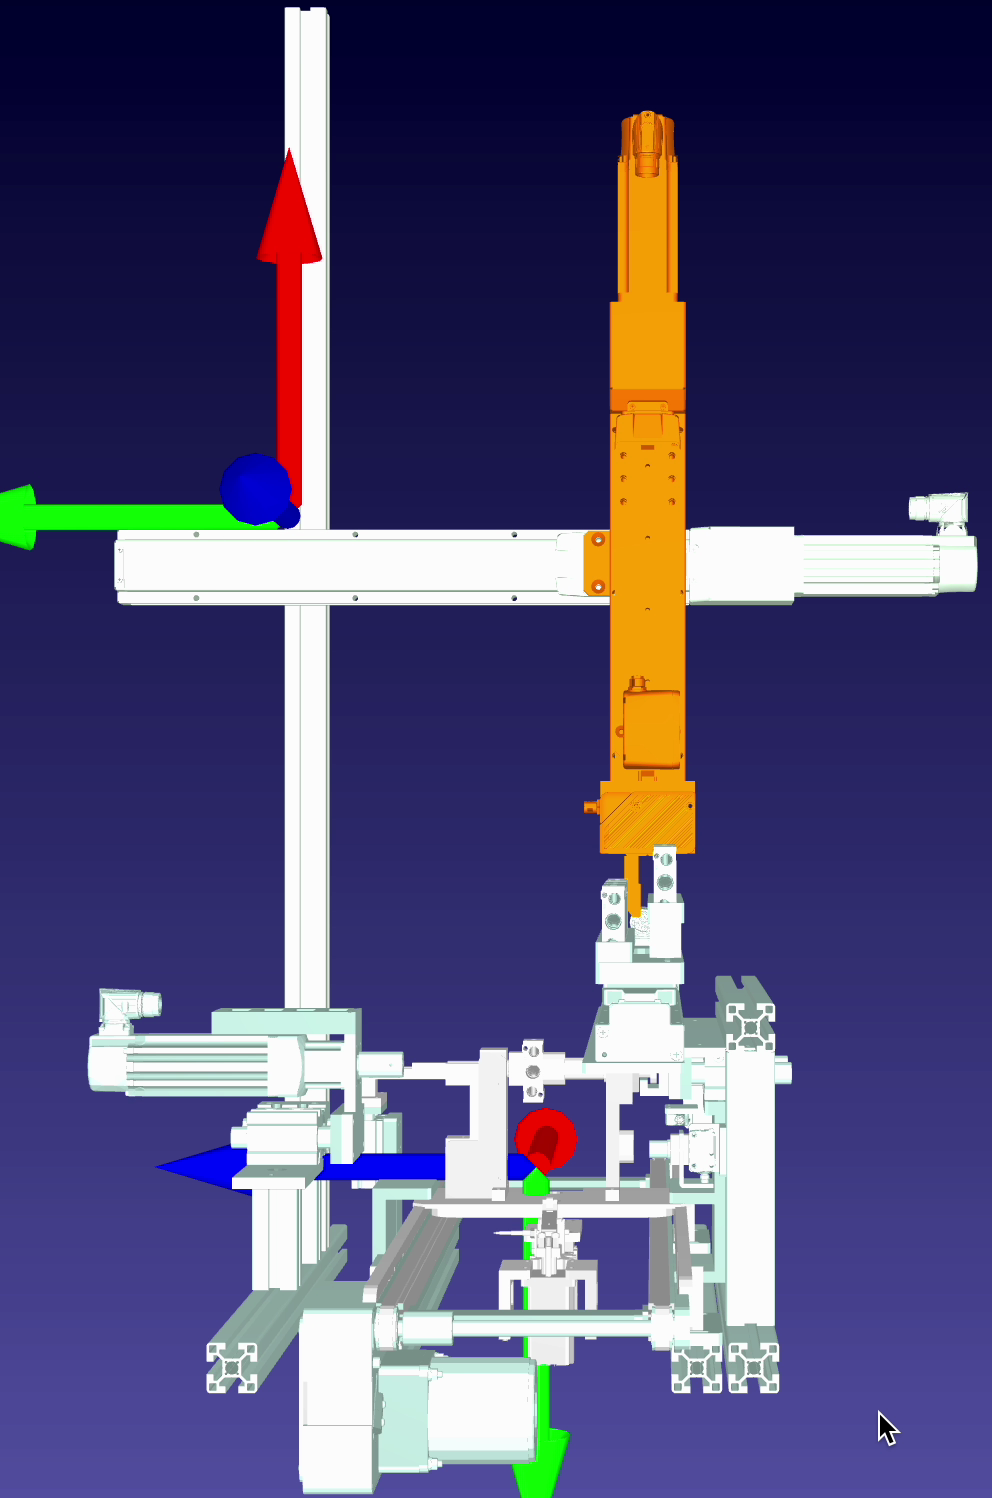Gripper: (595, 764, 692, 837)
